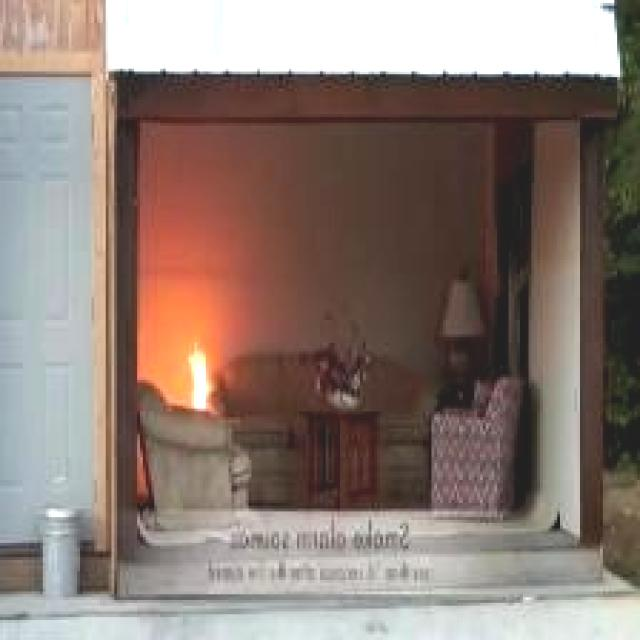fire: (173, 318, 216, 416)
